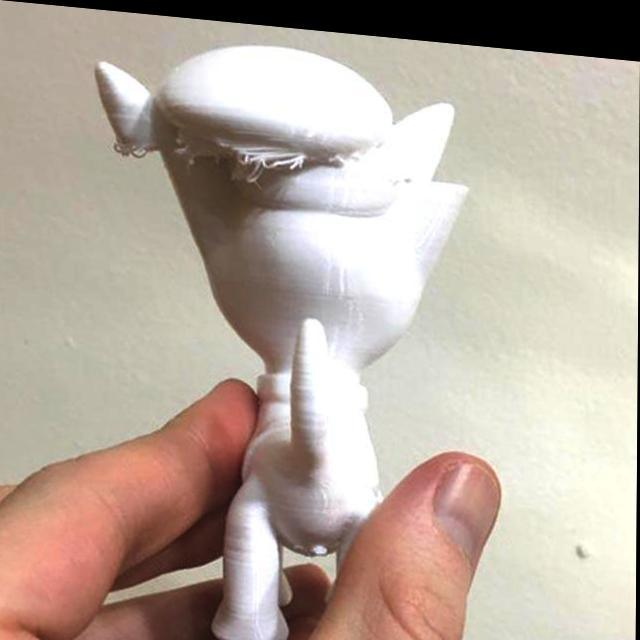spaghetti: (173, 124, 304, 184), (326, 138, 377, 166), (112, 132, 151, 158)
